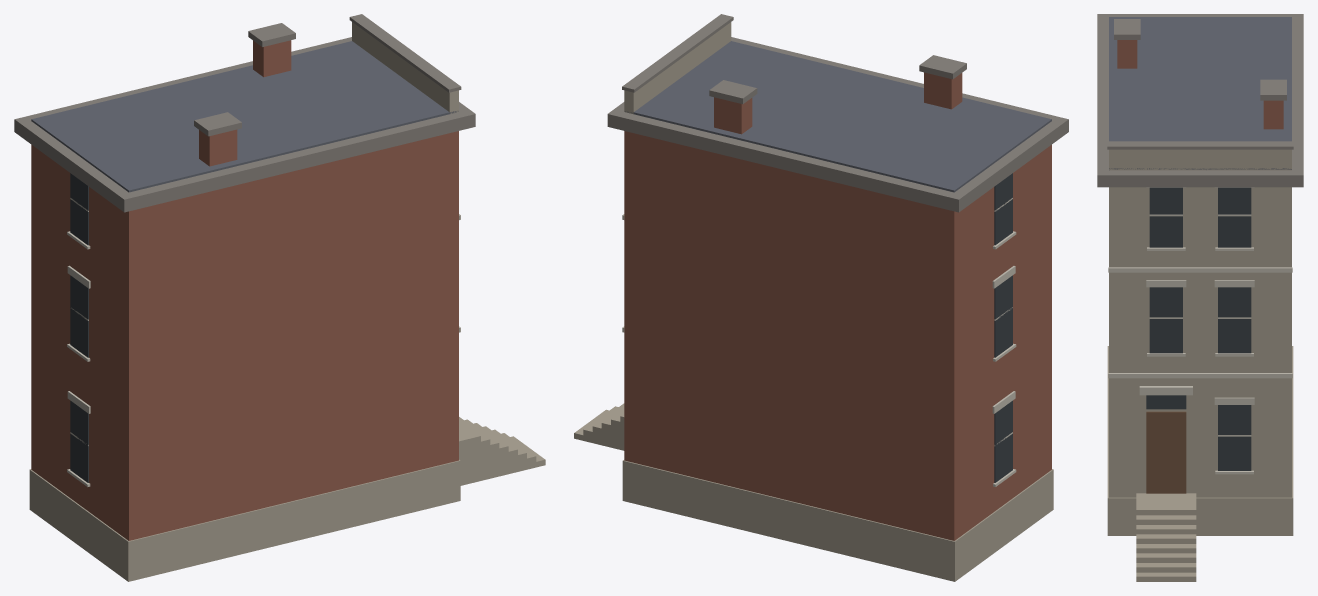
File: house_1805_indiana__draft_1904.glb
The picture shows the model from 3 angles, left to right: view 1: azimuth 30°, elevation 25°; view 2: azimuth 150°, elevation 25°; view 3: azimuth 270°, elevation 25°; orthographic projection. The views are drawn at different scales.
Parts seen in each view (by area): view 1: house_1805_indiana__draft_1904; view 2: house_1805_indiana__draft_1904; view 3: house_1805_indiana__draft_1904.
Part boxes in pixels (bbox=[...]): house_1805_indiana__draft_1904: bbox=[14, 14, 545, 581]; house_1805_indiana__draft_1904: bbox=[574, 14, 1068, 581]; house_1805_indiana__draft_1904: bbox=[1097, 14, 1303, 581].
Bounding box in the file's own units: 14.4 × 13.34 × 6.2.
